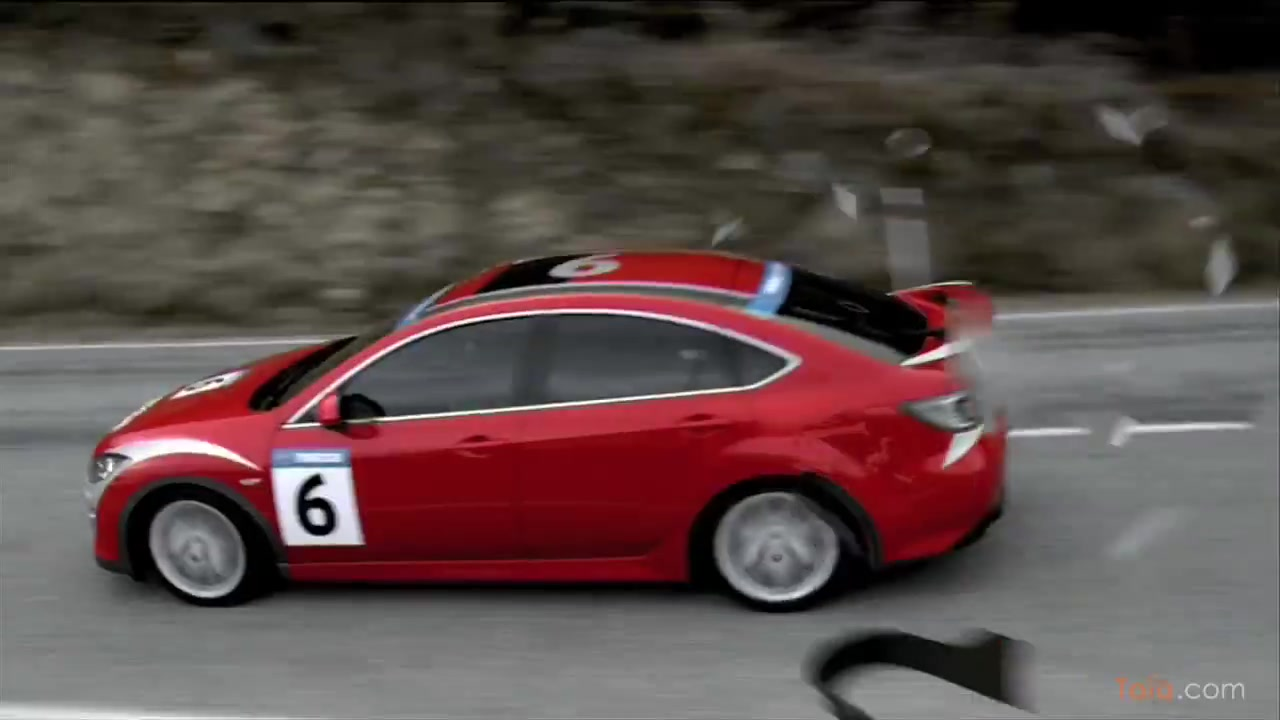car: (84, 245, 1011, 614)
